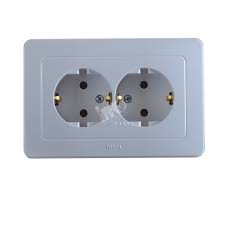raccoon: (52, 65, 113, 129), (114, 65, 175, 129)
